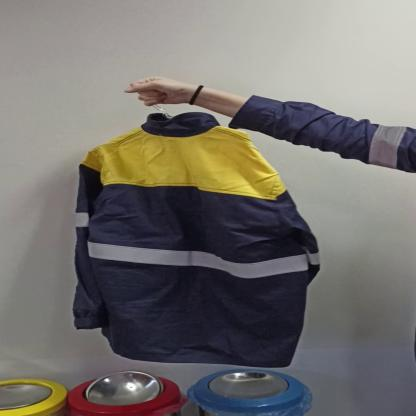C_eletrica: (69, 119, 321, 366)
